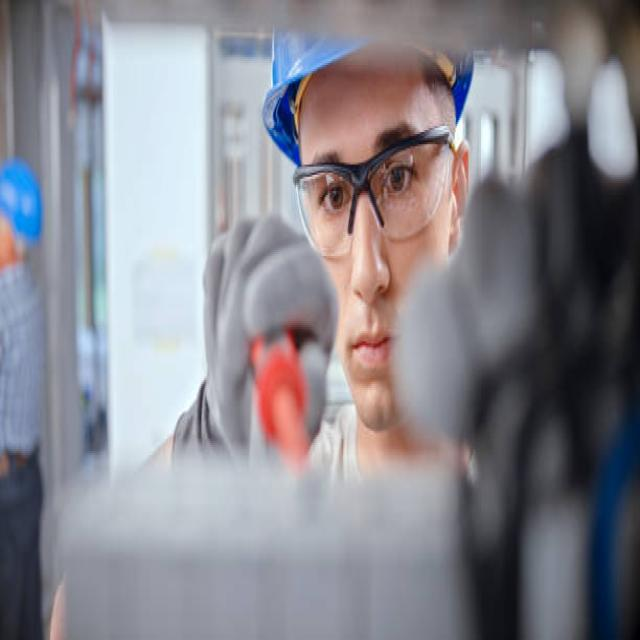gloves: (389, 101, 640, 567), (167, 212, 338, 466)
